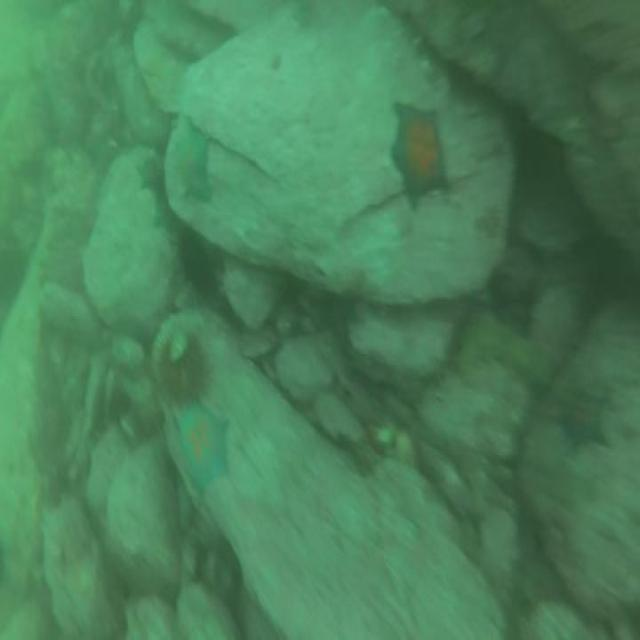echinus: (172, 226, 218, 300)
holothurian: (452, 299, 552, 392)
starfish: (386, 95, 451, 212), (172, 400, 232, 512), (554, 374, 610, 460), (177, 127, 211, 210), (148, 187, 178, 236), (133, 152, 167, 194)
